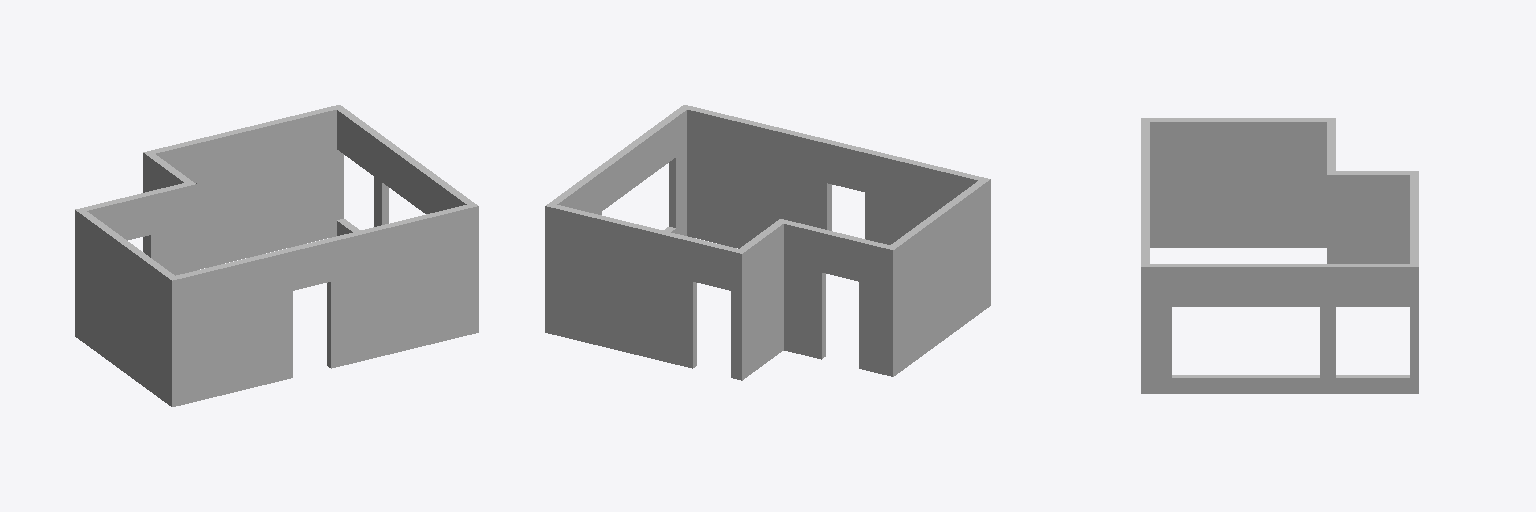
Rendered from house.obj.
3 views of the same model, side by side, from view 1: azimuth 30°, elevation 25°; view 2: azimuth 150°, elevation 25°; view 3: azimuth 270°, elevation 25° (orthographic).
Parts seen in each view (by area): view 1: Cube.022_Cube.040; view 2: Cube.022_Cube.040; view 3: Cube.022_Cube.040.
Boxes of the visible parts, <box> form: Cube.022_Cube.040: <box>75,105,478,406</box>; Cube.022_Cube.040: <box>545,105,990,380</box>; Cube.022_Cube.040: <box>1141,118,1418,393</box>.
Size of the model in its own units: 8.1 by 3.2 by 6.35.